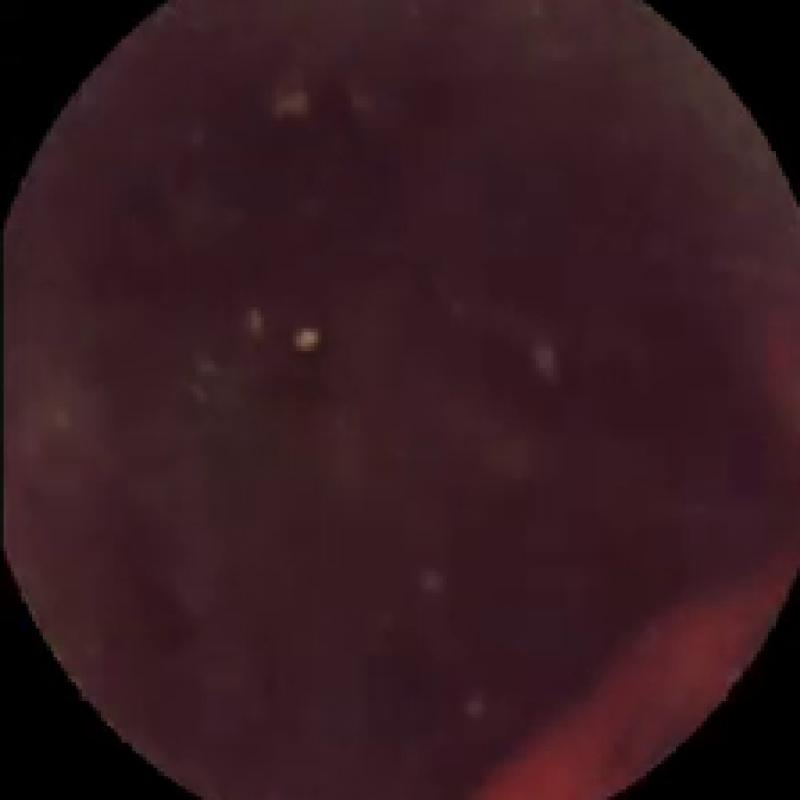bleeding: (489, 546, 794, 793)
